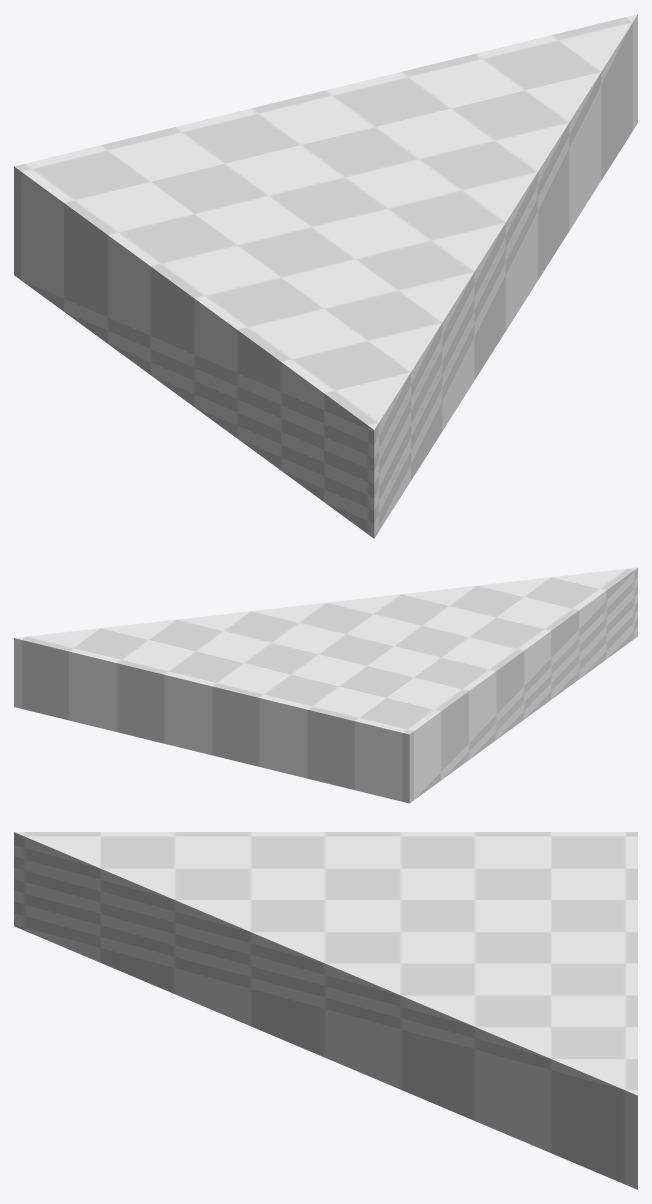
Rendered from CentralFloor.fbx.
3 renders of one model, top to bottom at view 1: azimuth 30°, elevation 25°; view 2: azimuth 150°, elevation 25°; view 3: azimuth 270°, elevation 25°, orthographic. The views are drawn at different scales.
Parts seen in each view (by area): view 1: CentralFloor; view 2: CentralFloor; view 3: CentralFloor.
Part boxes in pixels (left/top/right/bottom): CentralFloor: left=14, top=14, right=637, bottom=538; CentralFloor: left=14, top=567, right=637, bottom=803; CentralFloor: left=14, top=832, right=637, bottom=1189.
Bounding box in the file's own units: 118 × 118 × 19.69.
1 material, 1 textured.
